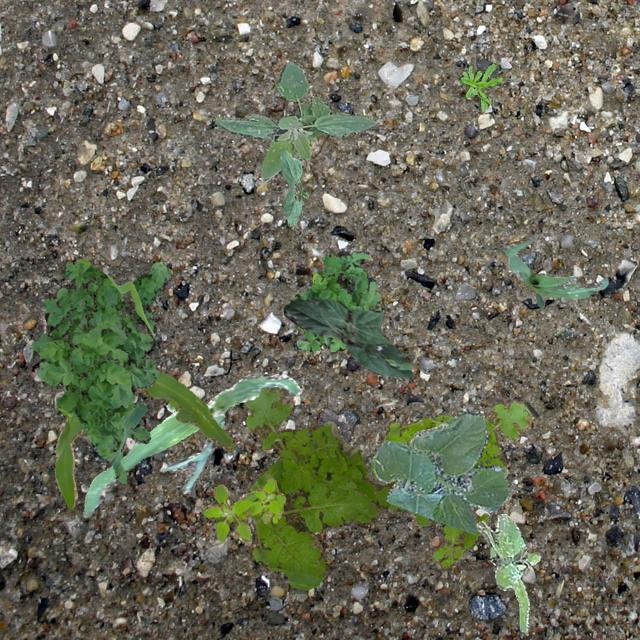crop: (82, 372, 300, 516), (54, 368, 232, 508), (372, 411, 510, 534), (282, 297, 412, 378), (501, 235, 606, 308), (278, 148, 308, 225)
weed: (242, 386, 433, 590), (29, 258, 170, 482), (370, 400, 538, 568), (214, 61, 376, 180), (294, 250, 379, 352), (474, 512, 538, 632), (202, 478, 284, 542), (458, 61, 502, 110)
